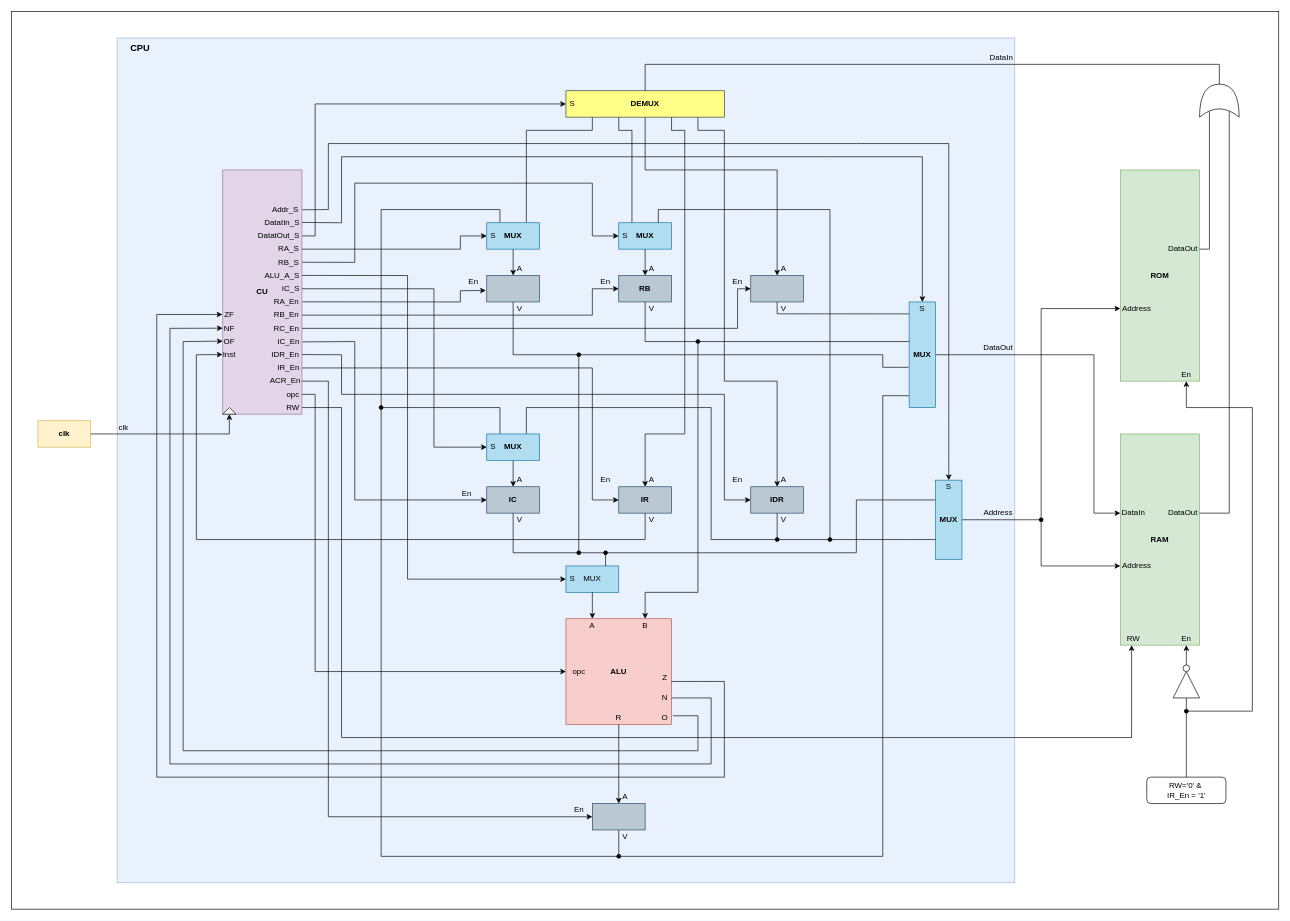
Some shapes in this 1290 by 921 pixel diagram are drawn without their labels. Here are the shapes that lost their labels. From the top down, the centre of each, then its label:
(x=513, y=288): RA
(x=777, y=288): RC
(x=618, y=816): ACR
